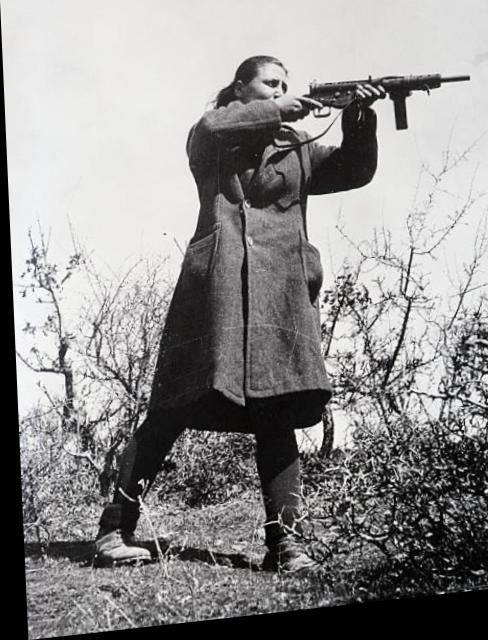other: (172, 52, 340, 587)
